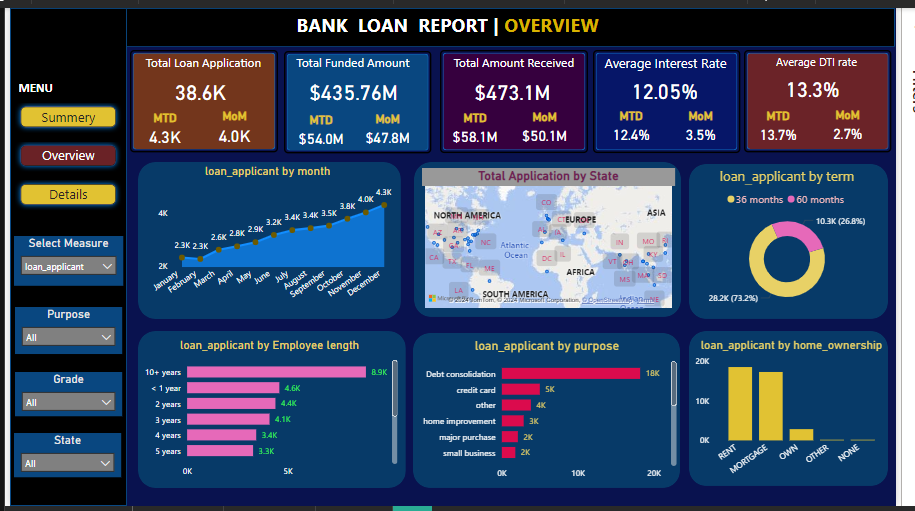

The page's visual inventory and layout, read from the dashboard file:
{"tool":"powerbi","page":{"name":"Overview","canvas":[1280,720],"ordinal":1},"visuals":[{"type":"shape","box":[173.5,60.7,214,148],"z":0},{"type":"shape","box":[0,0,1279.5,56.4],"z":1000},{"type":"textbox","box":[409.2,0,461.2,56.4],"z":2000},{"type":"shape","box":[0,0,169.2,720],"z":3000},{"type":"shape","box":[396.1,62.2,213,148],"z":4000},{"type":"shape","box":[621.7,60.7,214,148.9],"z":5000},{"type":"shape","box":[842.9,60.7,212.5,148.9],"z":6000},{"type":"shape","box":[1061.2,60.7,213,148],"z":7000},{"type":"card","fields":{"Values":["measure_table.loan_applicant"]},"box":[199.5,95.4,151.8,50.6],"z":8000},{"type":"card","fields":{"Values":["measure_table.Total funded"]},"box":[409.2,95.4,174.9,50.6],"z":9000},{"type":"card","fields":{"Values":["measure_table.Total amount received"]},"box":[646.3,95.4,160.5,50.6],"z":10000},{"type":"card","fields":{"Values":["measure_table.avg int rate"]},"box":[870.4,94,151.8,50.6],"z":11000},{"type":"card","fields":{"Values":["measure_table.Avg_dti"]},"box":[1085.8,91.1,148.9,50.6],"z":12000},{"type":"textbox","box":[185.1,62.2,189.4,39],"z":13000},{"type":"textbox","box":[396.1,62.2,199.5,37.6],"z":14000},{"type":"textbox","box":[621.7,62.2,214,37.6],"z":15000},{"type":"textbox","box":[847.2,62.2,201,36.1],"z":16000},{"type":"textbox","box":[1071.3,62.2,189.4,33.3],"z":17000},{"type":"card","title":"MTD","fields":{"Values":["measure_table.MTD_loan"]},"box":[173.5,148.9,101.2,54.9],"z":18000},{"type":"card","title":"MTD","fields":{"Values":["measure_table.MTD_funded"]},"box":[396.1,151.8,107,54.9],"z":19000},{"type":"card","title":"MTD","fields":{"Values":["measure_table.MTD_amount_received"]},"box":[621.7,148.9,101.2,54.9],"z":20000},{"type":"card","title":"MTD","fields":{"Values":["measure_table.MTD_avg_int"]},"box":[847.2,146,101.2,54.9],"z":21000},{"type":"card","title":"MTD","fields":{"Values":["measure_table.MTD_avg_dti"]},"box":[1059.8,146,101.2,54.9],"z":22000},{"type":"card","title":"MoM","fields":{"Values":["measure_table.MoM loan applicant"]},"box":[274.7,146,99.8,56.4],"z":23000},{"type":"card","title":"MoM","fields":{"Values":["measure_table.MoM_funded"]},"box":[495.9,150.4,99.8,56.4],"z":24000},{"type":"card","title":"MoM","fields":{"Values":["measure_table.MoM_received"]},"box":[722.9,147.5,99.8,56.4],"z":25000},{"type":"card","title":"MoM","fields":{"Values":["measure_table.MoM_avg_int"]},"box":[948.4,146,99.8,56.4],"z":26000},{"type":"card","title":"MoM","fields":{"Values":["measure_table.MoM_avg_dti"]},"box":[1161,144.6,99.8,56.4],"z":27000},{"type":"shape","box":[185.1,222.7,380.2,227],"z":28000},{"type":"shape","box":[584.1,222.7,386,224.1],"z":29000},{"type":"slicer","title":"Purpose","fields":{"Values":["bank_loan_data.purpose"]},"box":[7.2,432.3,154.7,68],"z":49000},{"type":"slicer","title":"Grade","fields":{"Values":["bank_loan_data.grade"]},"box":[7.2,526.3,154.7,63.6],"z":50000},{"type":"slicer","title":"State","fields":{"Values":["bank_loan_data.address_state"]},"box":[5.8,614.5,154.7,63.6],"z":51000},{"type":"shape","box":[981.7,225.5,287.7,224.1],"z":51002},{"type":"areaChart","fields":{"Category":["Date table.month"],"Y":["measure_table.Total funded"]},"box":[188,225.5,368.7,214],"z":51003},{"type":"slicer","title":"Select  Measure","fields":{"Values":["Select Measure.Select Measure"]},"box":[5.8,329.6,157.6,72.3],"z":51005},{"type":"map","title":"Total Application by State","fields":{"Category":["bank_loan_data.address_state"]},"box":[595.7,231.3,365.8,208.2],"z":51006},{"type":"donutChart","fields":{"Category":["bank_loan_data.term"],"Y":["measure_table.Total funded"]},"box":[986,231.3,274.7,208.2],"z":51007},{"type":"shape","box":[185.1,467,387.5,227],"z":51008},{"type":"shape","box":[582.7,469.9,386,224.1],"z":51009},{"type":"shape","box":[981.7,467,287.7,224.1],"z":51010},{"type":"clusteredBarChart","title":"loan_applicant by Employee length","fields":{"Category":["bank_loan_data.emp_length"],"Y":["measure_table.Total funded"]},"box":[185.1,477.1,380.2,211.1],"z":51011},{"type":"clusteredBarChart","fields":{"Y":["measure_table.Total funded"],"Category":["bank_loan_data.purpose"]},"box":[584.1,477.1,384.6,214],"z":51012},{"type":"columnChart","fields":{"Category":["bank_loan_data.home_ownership"],"Y":["measure_table.Total funded"]},"box":[986,477.1,287.7,211.1],"z":51013},{"type":"pageNavigator","box":[7.2,134.5,154.7,159],"z":51014},{"type":"textbox","box":[7.2,98.3,88.2,36.1],"z":51015},{"type":"shape","box":[75.2,99.8,33.3,33.3],"z":51016}]}

Visuals, with their boxes in screenshot pixels (x1, y1, x2, y2), scaled from the page's 1280x720 canvas onto the 915x511 screenshot:
shape: locate(124, 43, 277, 148)
shape: locate(0, 0, 914, 40)
textbox: locate(293, 0, 622, 40)
shape: locate(0, 0, 121, 510)
shape: locate(283, 44, 435, 149)
shape: locate(444, 43, 597, 149)
shape: locate(603, 43, 754, 149)
shape: locate(759, 43, 911, 148)
card - measure_table.loan_applicant: locate(143, 68, 251, 104)
card - measure_table.Total funded: locate(293, 68, 418, 104)
card - measure_table.Total amount received: locate(462, 68, 577, 104)
card - measure_table.avg int rate: locate(622, 67, 731, 103)
card - measure_table.Avg_dti: locate(776, 65, 883, 101)
textbox: locate(132, 44, 268, 72)
textbox: locate(283, 44, 426, 71)
textbox: locate(444, 44, 597, 71)
textbox: locate(606, 44, 749, 70)
textbox: locate(766, 44, 901, 68)
"MTD" card: locate(124, 106, 196, 145)
"MTD" card: locate(283, 108, 360, 147)
"MTD" card: locate(444, 106, 517, 145)
"MTD" card: locate(606, 104, 678, 143)
"MTD" card: locate(758, 104, 830, 143)
"MoM" card: locate(196, 104, 268, 144)
"MoM" card: locate(354, 107, 426, 147)
"MoM" card: locate(517, 105, 588, 145)
"MoM" card: locate(678, 104, 749, 144)
"MoM" card: locate(830, 103, 901, 143)
shape: locate(132, 158, 404, 319)
shape: locate(418, 158, 693, 317)
"Purpose" slicer: locate(5, 307, 116, 355)
"Grade" slicer: locate(5, 374, 116, 419)
"State" slicer: locate(4, 436, 115, 481)
shape: locate(702, 160, 907, 319)
areaChart - Date table.month x measure_table.Total funded: locate(134, 160, 398, 312)
"Select  Measure" slicer: locate(4, 234, 117, 285)
"Total Application by State" map: locate(426, 164, 687, 312)
donutChart - bank_loan_data.term x measure_table.Total funded: locate(705, 164, 901, 312)
shape: locate(132, 331, 409, 493)
shape: locate(417, 333, 692, 493)
shape: locate(702, 331, 907, 490)
"loan_applicant by Employee length" clusteredBarChart: locate(132, 339, 404, 488)
clusteredBarChart - measure_table.Total funded x bank_loan_data.purpose: locate(418, 339, 692, 490)
columnChart - bank_loan_data.home_ownership x measure_table.Total funded: locate(705, 339, 910, 488)
pageNavigator: locate(5, 95, 116, 208)
textbox: locate(5, 70, 68, 95)
shape: locate(54, 71, 78, 94)
